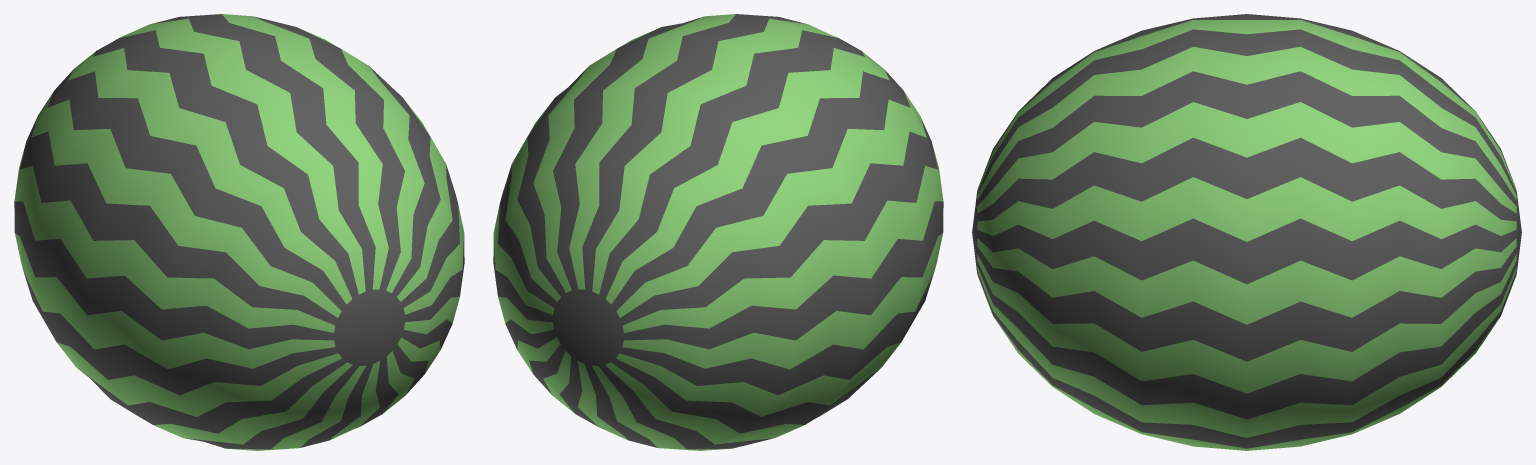
The model's file is Watermelon.fbx.
3 renders of one model, left to right at view 1: azimuth 30°, elevation 25°; view 2: azimuth 150°, elevation 25°; view 3: azimuth 270°, elevation 25°, orthographic. The views are drawn at different scales.
Parts seen in each view (by area): view 1: Sphere; view 2: Sphere; view 3: Sphere.
Boxes of the visible parts, x1,y1,x2,y2 form: Sphere: (14,14,464,450); Sphere: (493,14,943,450); Sphere: (972,14,1521,450).
Bounding box in the file's own units: 200 × 200 × 251.
